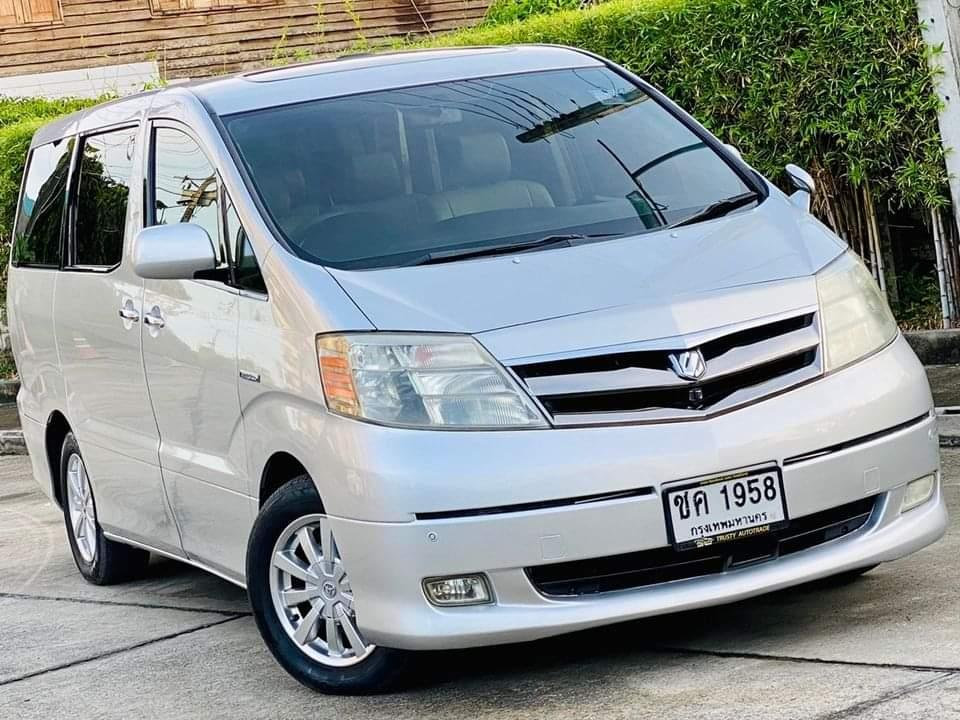license-plate: (657, 461, 791, 556)
